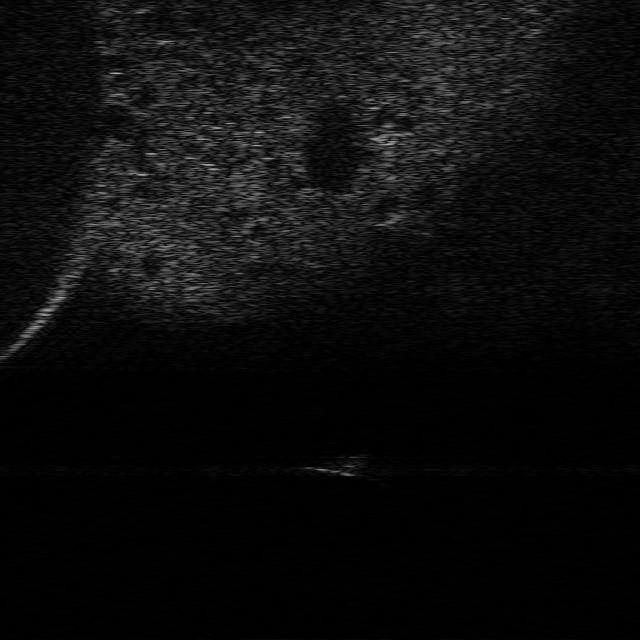cube: (305, 451, 367, 478)
